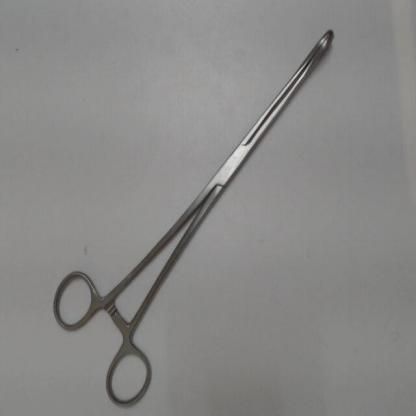Sponge Forceps: (46, 20, 343, 412)
